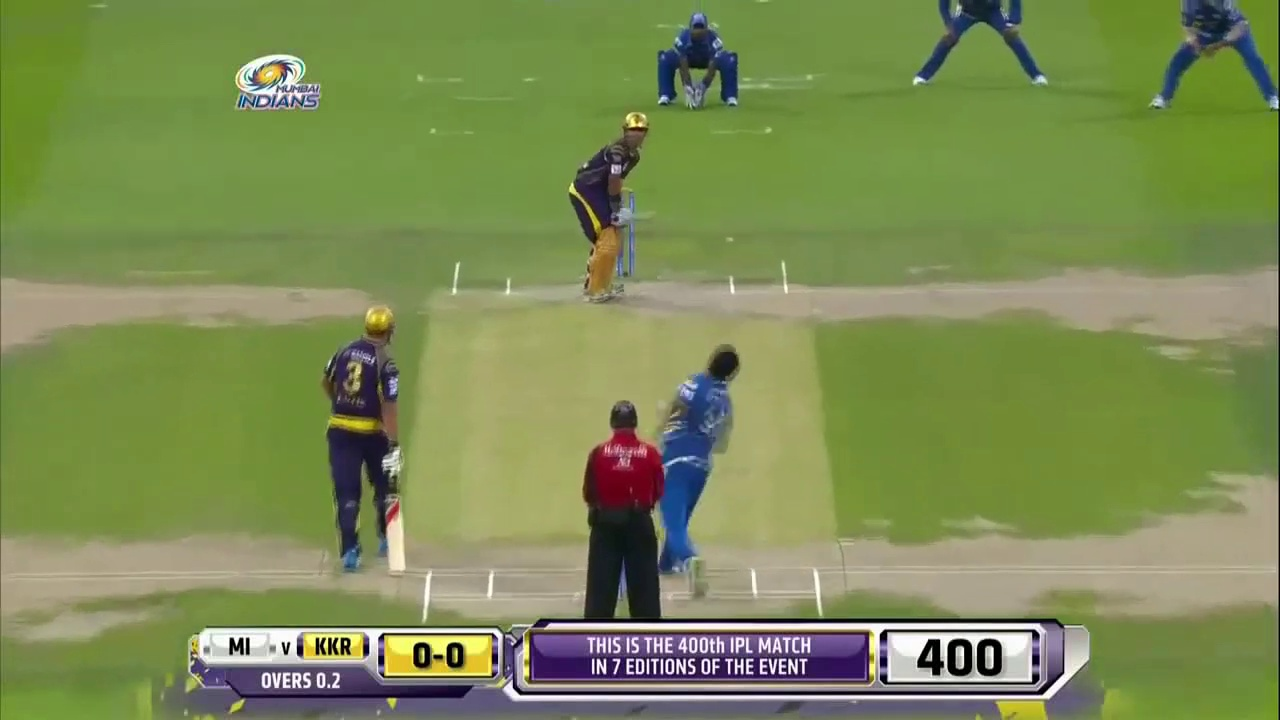bat: (385, 498, 406, 571)
